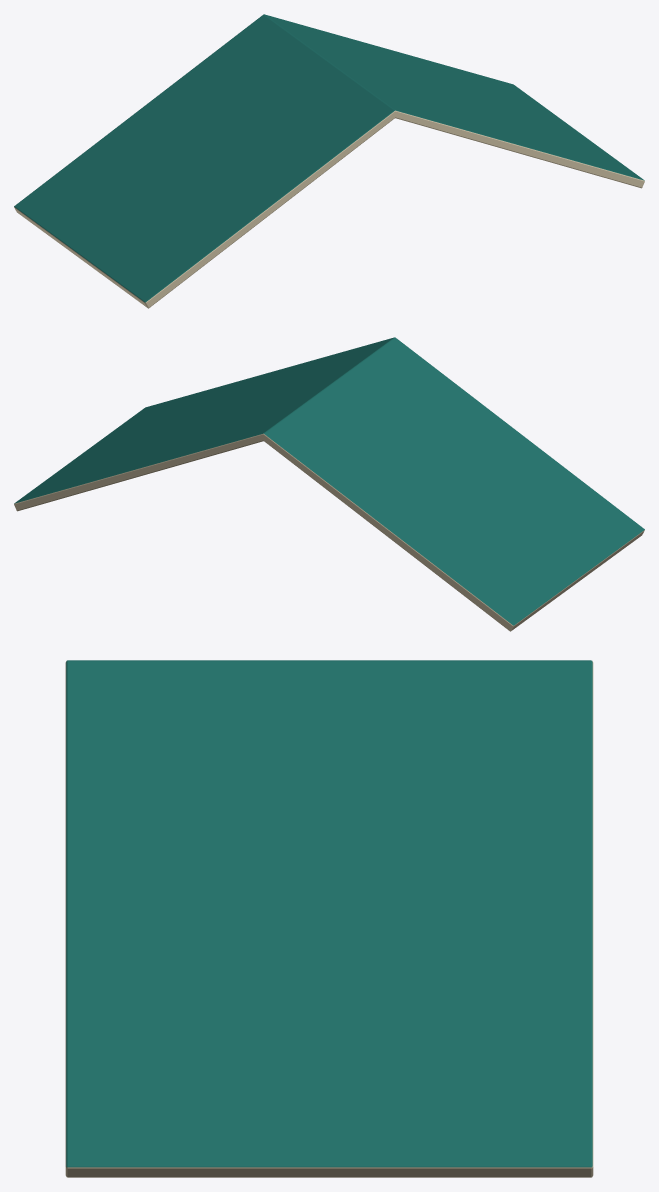
File: achievement-three-day-runner.glb
The picture shows the model from 3 angles, top to bottom: view 1: azimuth 30°, elevation 25°; view 2: azimuth 150°, elevation 25°; view 3: azimuth 270°, elevation 25°; orthographic projection. The views are drawn at different scales.
Visible parts, largest first — view 1: achievement-three-day-runner; view 2: achievement-three-day-runner; view 3: achievement-three-day-runner.
Part boxes in pixels (x1,y1,x2,y2): achievement-three-day-runner: [14, 14, 644, 308]; achievement-three-day-runner: [14, 337, 644, 631]; achievement-three-day-runner: [65, 660, 593, 1177].
Size of the model in its own units: 1.36 by 0.3583 by 0.62.
